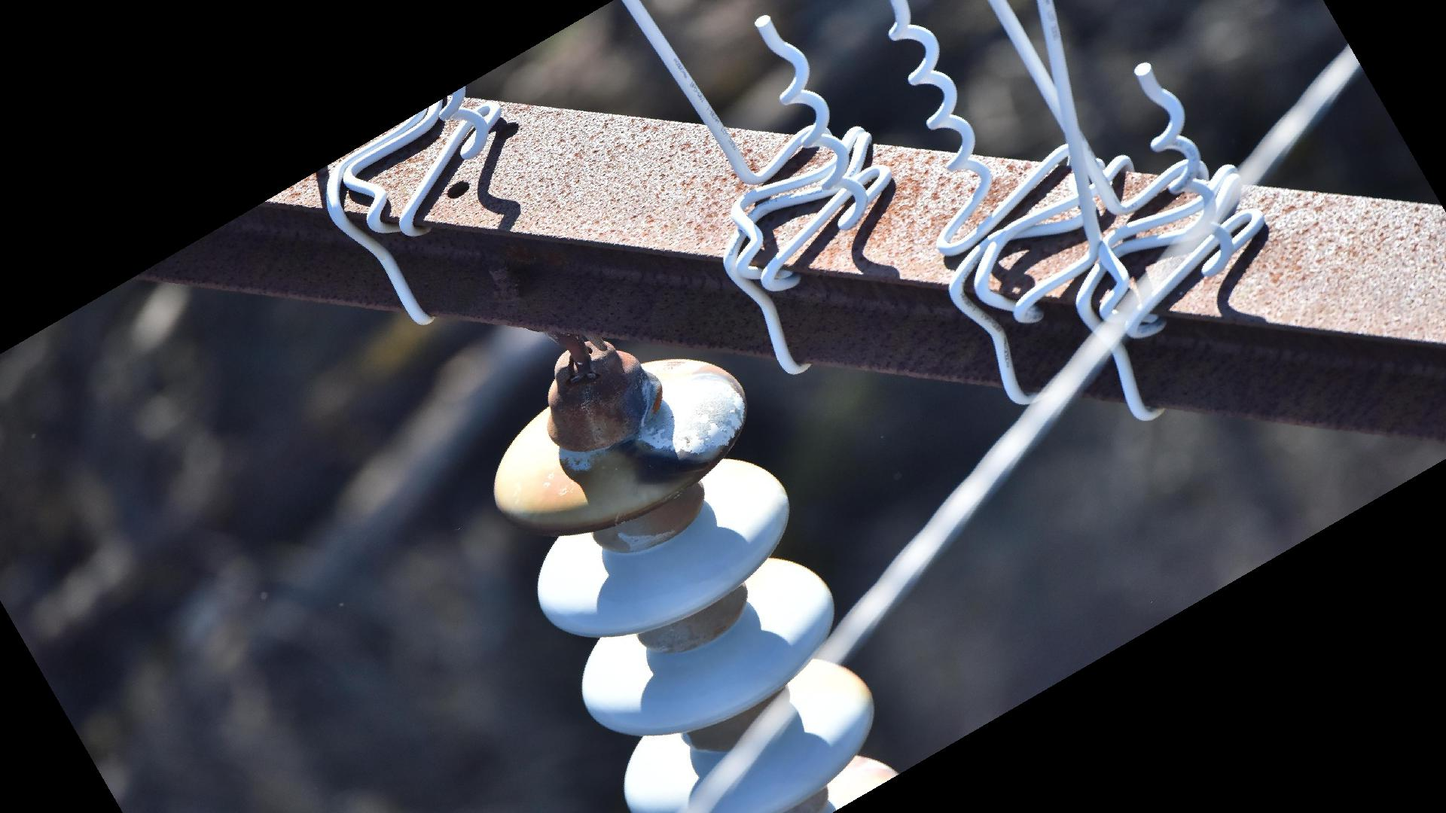insulator: (486, 354, 901, 813)
insulator_flashover: (634, 362, 746, 467)
